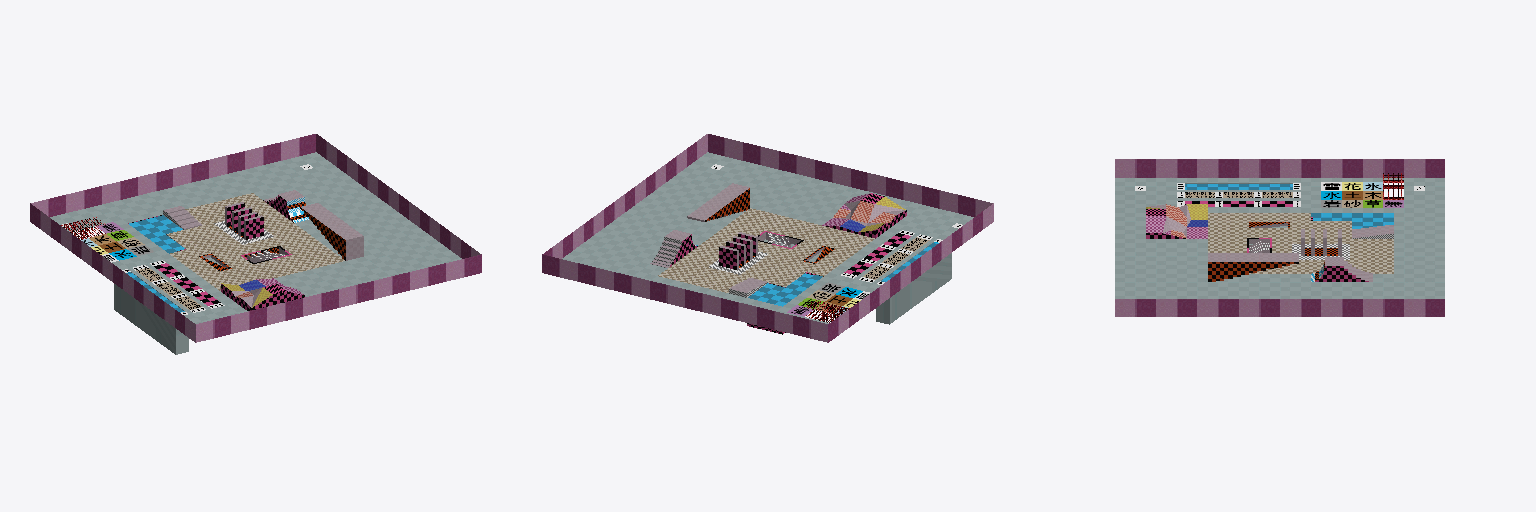
3 renders of one model, left to right at view 1: azimuth 30°, elevation 25°; view 2: azimuth 150°, elevation 25°; view 3: azimuth 270°, elevation 25°, orthographic.
Visible parts, largest first — view 1: r0-node_r0-mesh; view 2: r0-node_r0-mesh; view 3: r0-node_r0-mesh.
Boxes of the visible parts, x1=… form: r0-node_r0-mesh: x1=30, y1=134, x2=481, y2=354; r0-node_r0-mesh: x1=542, y1=134, x2=993, y2=342; r0-node_r0-mesh: x1=1115, y1=159, x2=1444, y2=316.
Size of the model in its own units: 16 by 3.1 by 16.
33 materials, 33 textured.